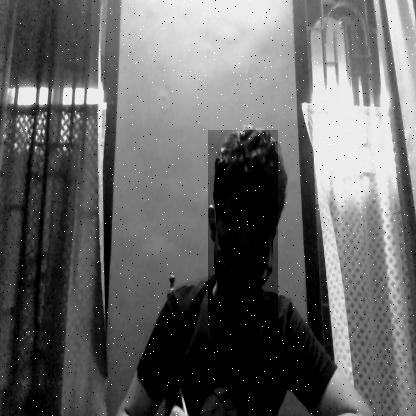Normal: (208, 130, 278, 328)
